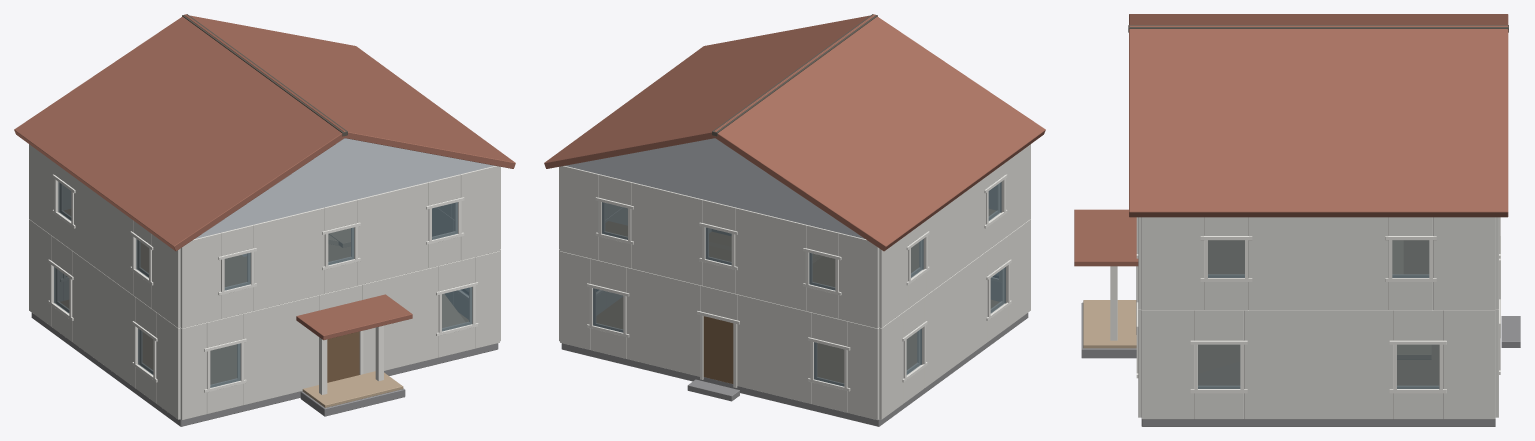
File: TwoStoryHouse.glb
3 views of the same model, side by side, from view 1: azimuth 30°, elevation 25°; view 2: azimuth 150°, elevation 25°; view 3: azimuth 270°, elevation 25° (orthographic). The views are drawn at different scales.
Parts seen in each view (by area): view 1: FTF_House_NorthAmerican_TwoStory_Ramp_v5_Static, Door_Front; view 2: FTF_House_NorthAmerican_TwoStory_Ramp_v5_Static, Door_Back; view 3: FTF_House_NorthAmerican_TwoStory_Ramp_v5_Static.
Part boxes in pixels (x1=…): FTF_House_NorthAmerican_TwoStory_Ramp_v5_Static: x1=14, y1=14, x2=515, y2=426; Door_Front: x1=327, y1=331, x2=359, y2=382; FTF_House_NorthAmerican_TwoStory_Ramp_v5_Static: x1=544, y1=14, x2=1045, y2=426; Door_Back: x1=703, y1=316, x2=733, y2=383; FTF_House_NorthAmerican_TwoStory_Ramp_v5_Static: x1=1074, y1=14, x2=1520, y2=426.
Size of the model in its own units: 12.7 by 9.26 by 12.11.
